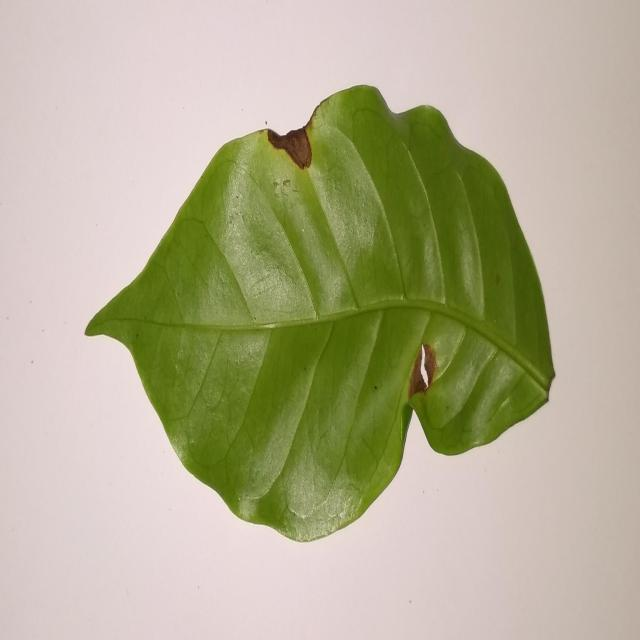phoma: (267, 106, 319, 169), (408, 339, 438, 400)
